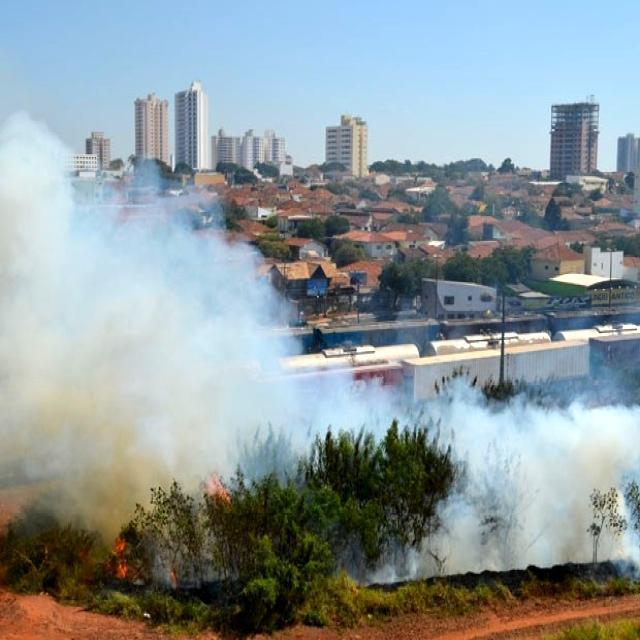Smoke: (0, 122, 370, 514), (411, 374, 640, 568)
